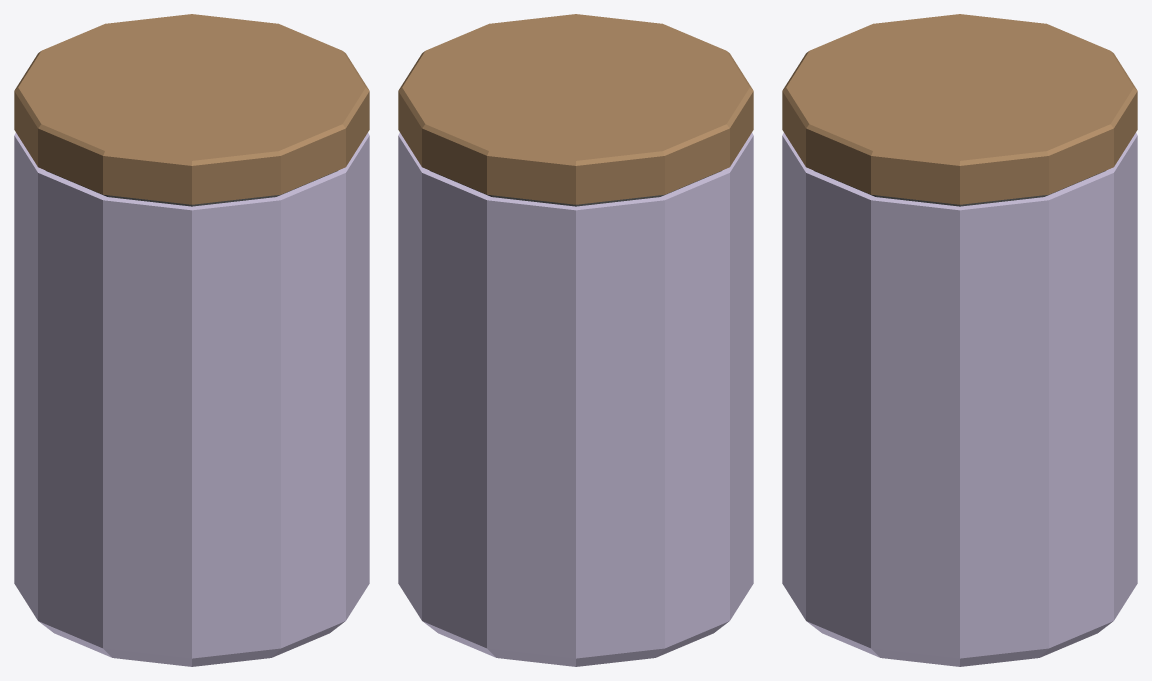
File: KitchenProps_20.fbx
3 views of the same model, side by side, from view 1: azimuth 30°, elevation 25°; view 2: azimuth 150°, elevation 25°; view 3: azimuth 270°, elevation 25° (orthographic).
Visible parts, largest first — view 1: KitchenProps_20; view 2: KitchenProps_20; view 3: KitchenProps_20.
Part boxes in pixels (<box>): KitchenProps_20: <box>14,14,369,666</box>; KitchenProps_20: <box>398,14,753,666</box>; KitchenProps_20: <box>782,14,1137,666</box>.
Bounding box in the file's own units: 9.62 × 15.3 × 9.62.
